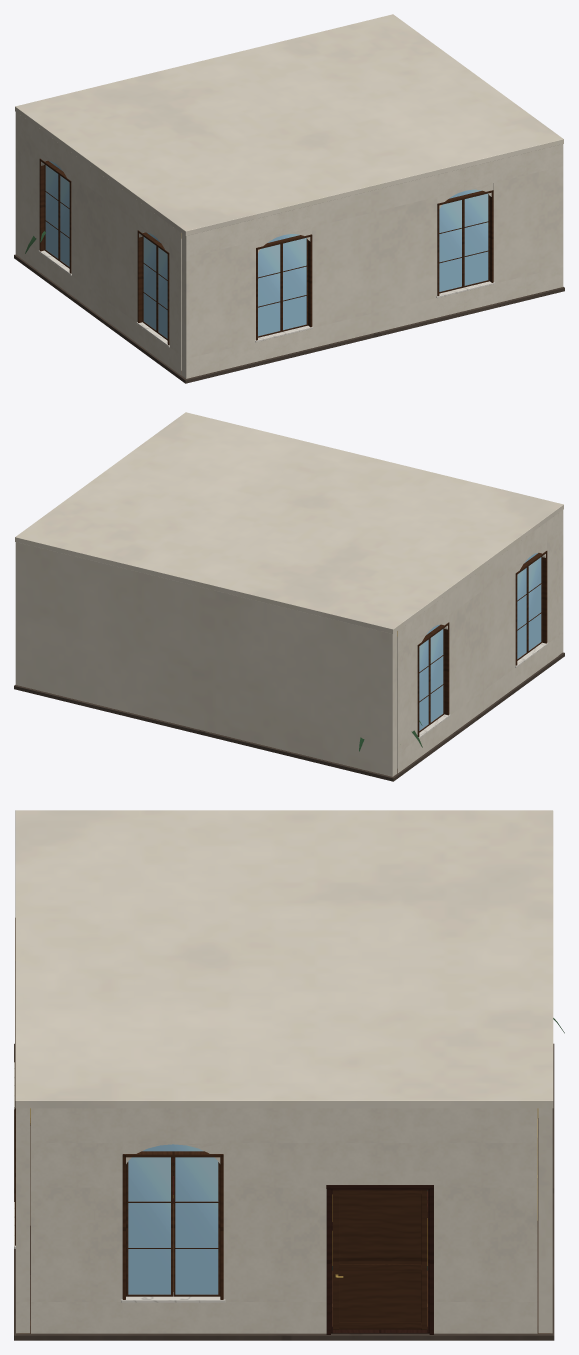
Rendered from mobile.glb.
3 views of the same model, one above another, from view 1: azimuth 30°, elevation 25°; view 2: azimuth 150°, elevation 25°; view 3: azimuth 270°, elevation 25° (orthographic). The views are drawn at different scales.
Visible parts, largest first — view 1: BG_Cutaway_Front, BG_Ceiling, BG_Shell_Fixed; view 2: BG_Ceiling, BG_Shell_Fixed, BG_Cutaway_Front; view 3: BG_Ceiling, BG_Shell_Fixed, BG_Cutaway_Front.
Boxes of the visible parts, left/top/right/bottom form: BG_Cutaway_Front: left=20, top=115, right=563, bottom=378; BG_Ceiling: left=15, top=14, right=563, bottom=235; BG_Shell_Fixed: left=14, top=112, right=564, bottom=383; BG_Ceiling: left=15, top=412, right=563, bottom=633; BG_Shell_Fixed: left=14, top=542, right=564, bottom=781; BG_Cutaway_Front: left=397, top=510, right=563, bottom=773; BG_Ceiling: left=15, top=810, right=553, bottom=1108; BG_Shell_Fixed: left=14, top=1043, right=554, bottom=1340; BG_Cutaway_Front: left=14, top=918, right=30, bottom=1333.
Bounding box in the file's own units: 11.77 × 4.4 × 9.18.
Materials: 2 (2 with a texture image).
